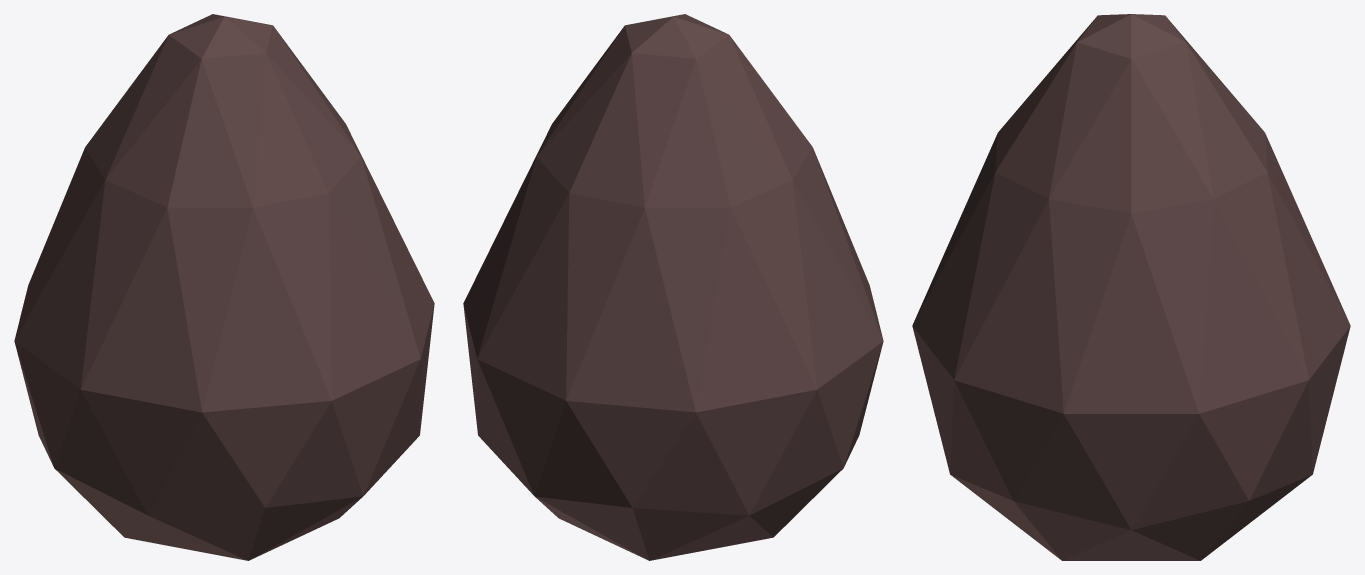
File: Punching bag small.fbx
3 renders of one model, left to right at view 1: azimuth 30°, elevation 25°; view 2: azimuth 150°, elevation 25°; view 3: azimuth 270°, elevation 25°, orthographic. The views are drawn at different scales.
Visible parts, largest first — view 1: punching bag small; view 2: punching bag small; view 3: punching bag small.
Boxes of the visible parts, x1,y1,x2,y2 form: punching bag small: (14, 14, 434, 560); punching bag small: (463, 14, 883, 560); punching bag small: (912, 14, 1350, 560).
Size of the model in its own units: 36.95 by 52.74 by 38.85.
